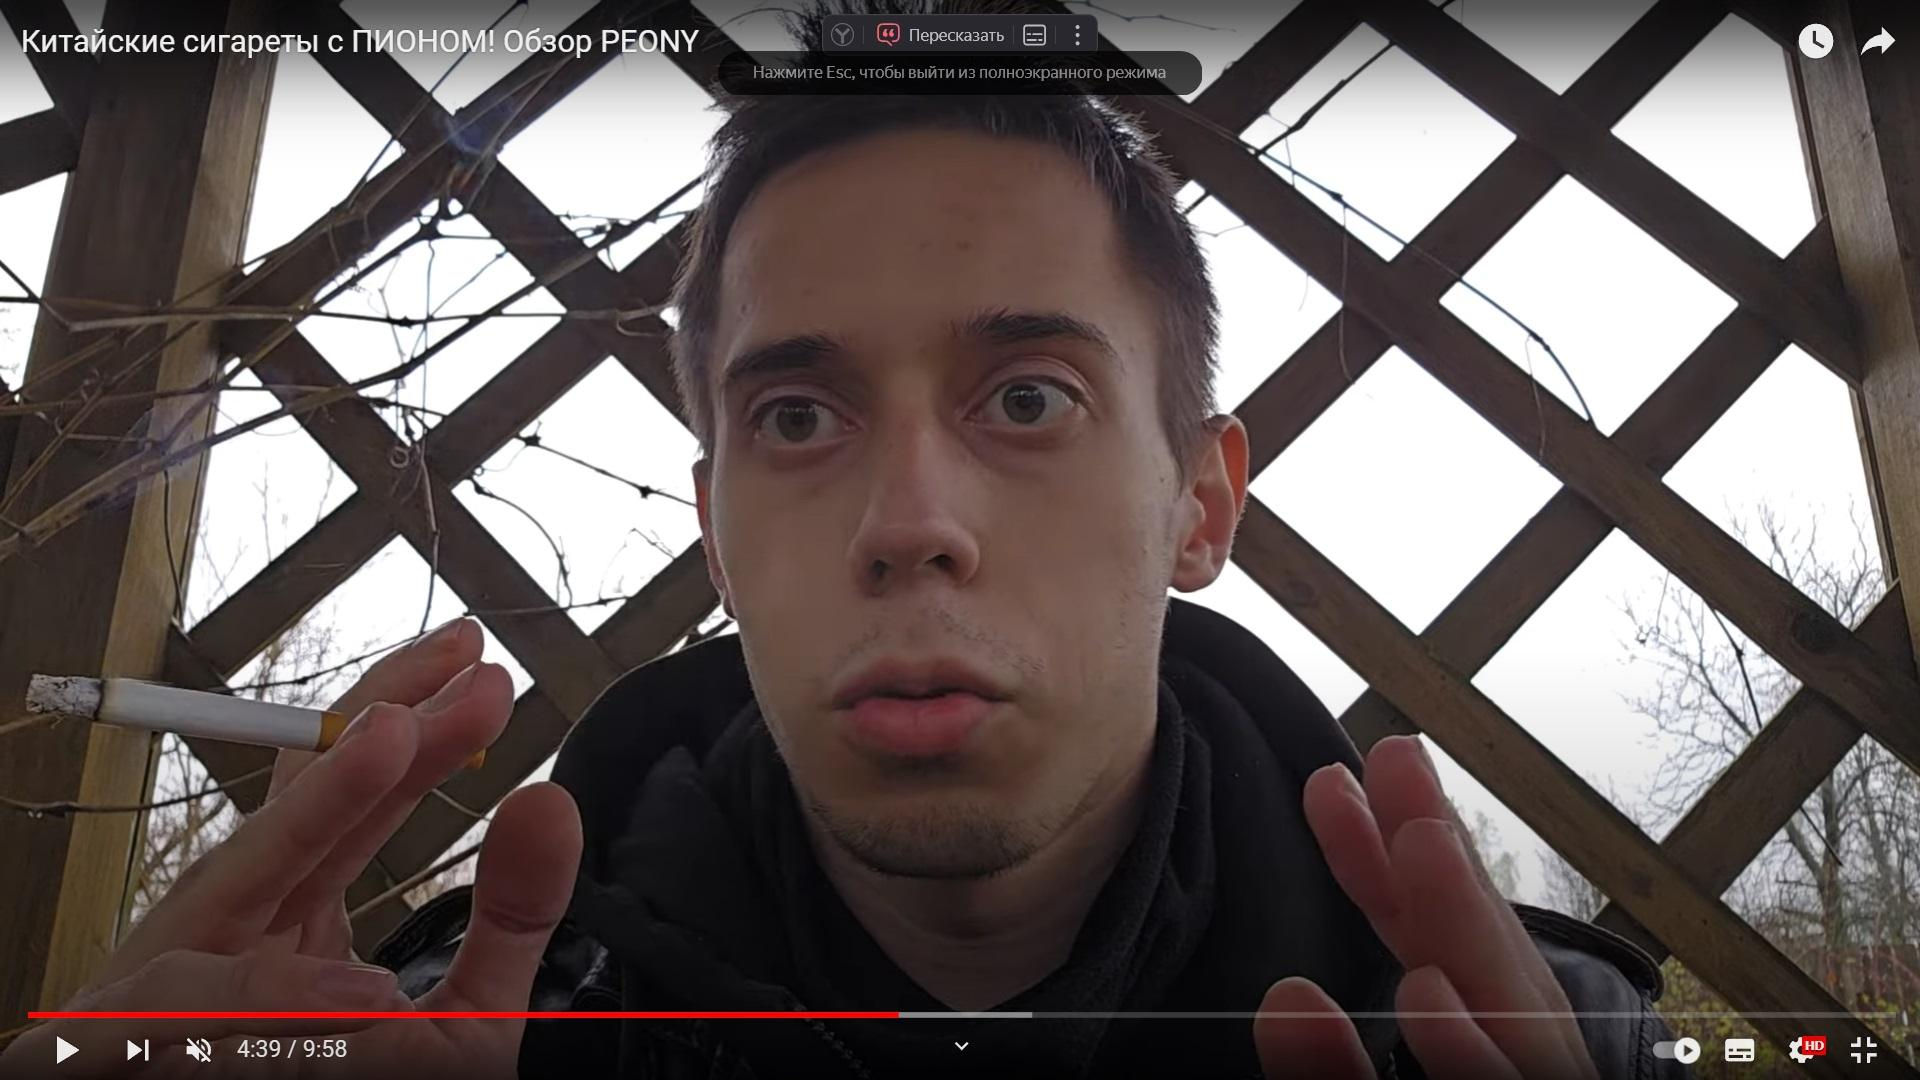cigarette: (25, 674, 359, 753)
